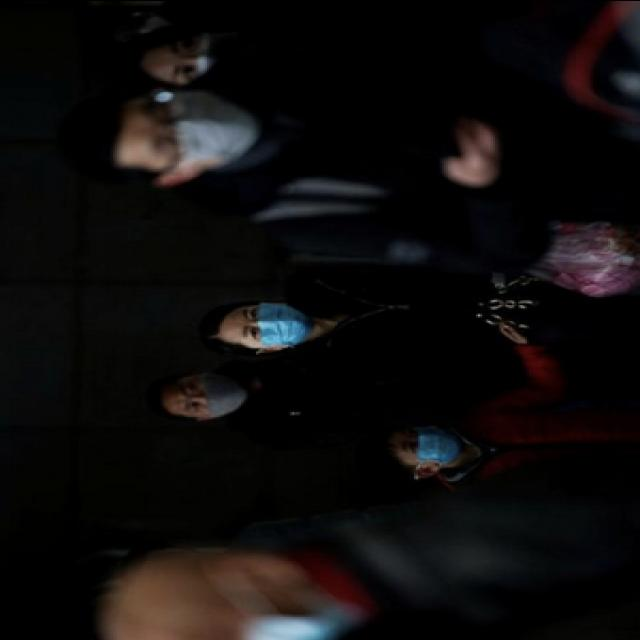with_mask: (140, 90, 258, 170), (235, 299, 309, 347), (175, 372, 247, 418), (396, 428, 458, 462)
